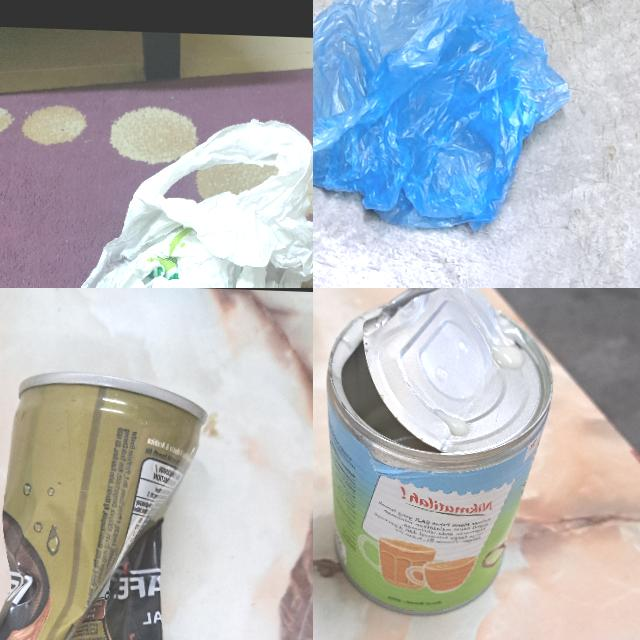aba de lata: (380, 288, 475, 321)
lata: (318, 288, 556, 619), (0, 367, 205, 640)
sacola plástica: (313, 0, 577, 233), (70, 103, 313, 288)
